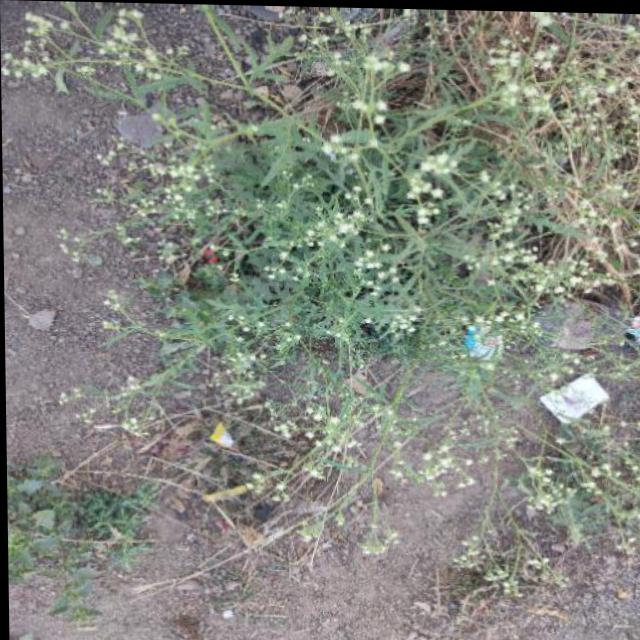weed: (112, 3, 626, 587)
